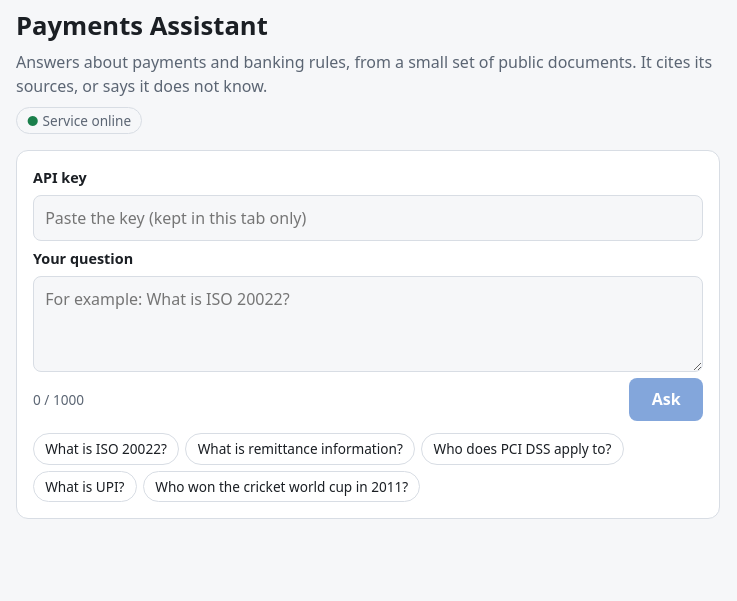
Test: errors › tells the user to paste the key after a 401
Type "What is ISO 20022?" into the text box labelled "Your question" at coordinates (368, 324), box [33,276,703,372]
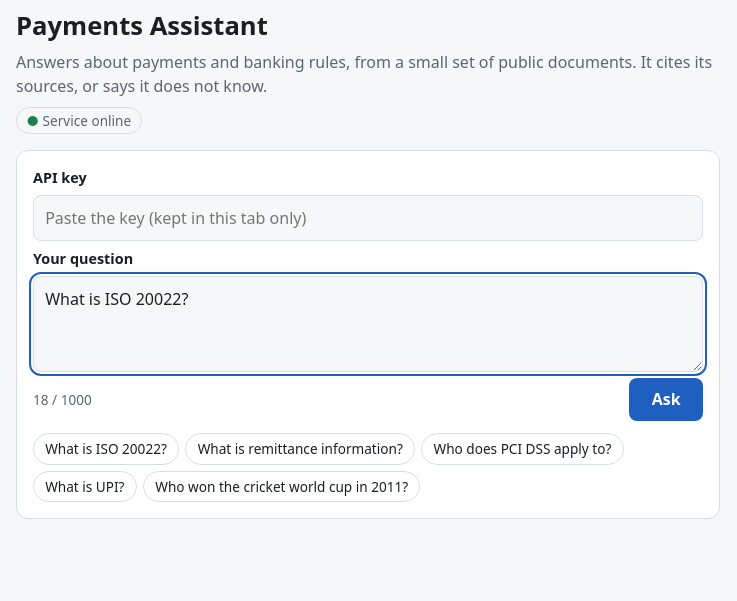
Click the button "Ask" at coordinates (666, 400), box [629,378,703,421]
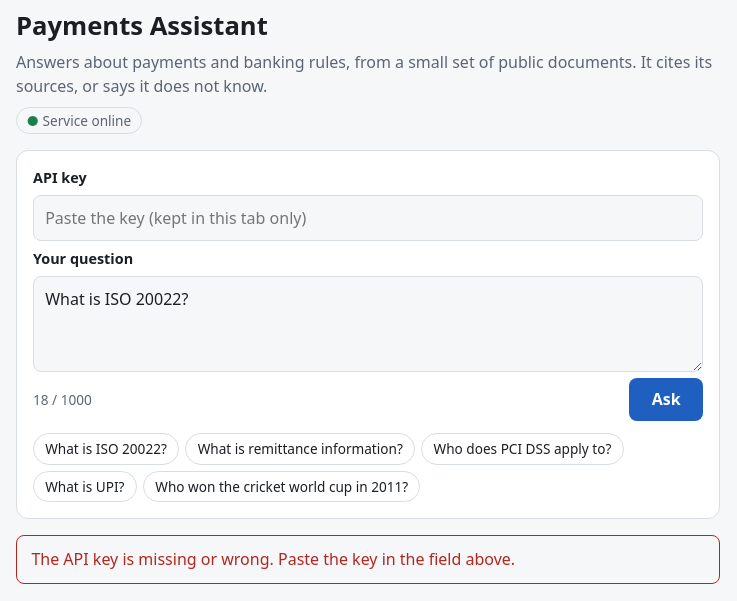
Now the message "The API key is missing or wrong. Paste the key in the field above." is shown, box [16,535,720,584]
